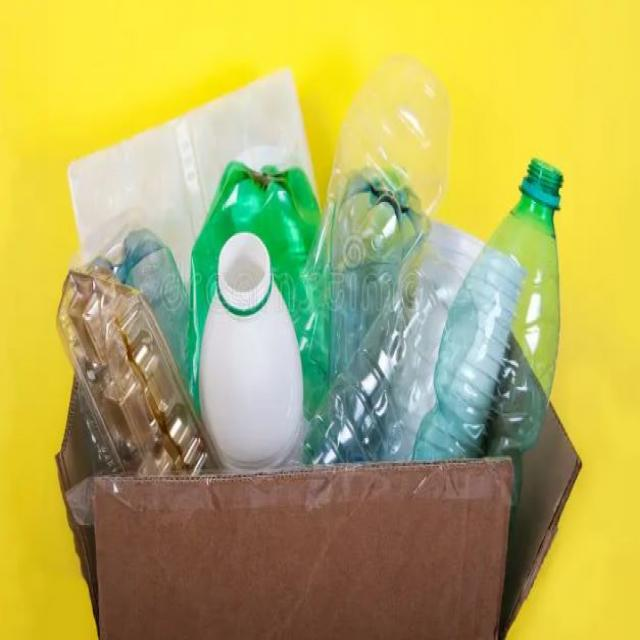paper: (92, 458, 516, 639)
plastic: (415, 150, 566, 460), (310, 50, 454, 346), (310, 242, 478, 456), (53, 266, 201, 472), (194, 229, 306, 472)
